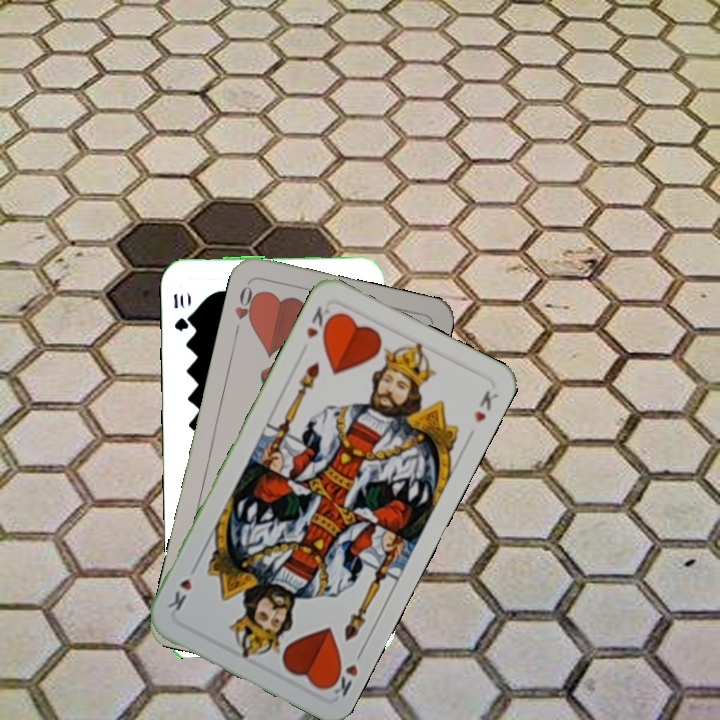G10: (169, 289, 191, 333)
HK: (323, 645, 366, 700), (302, 302, 337, 342)
HO: (230, 280, 261, 338)
